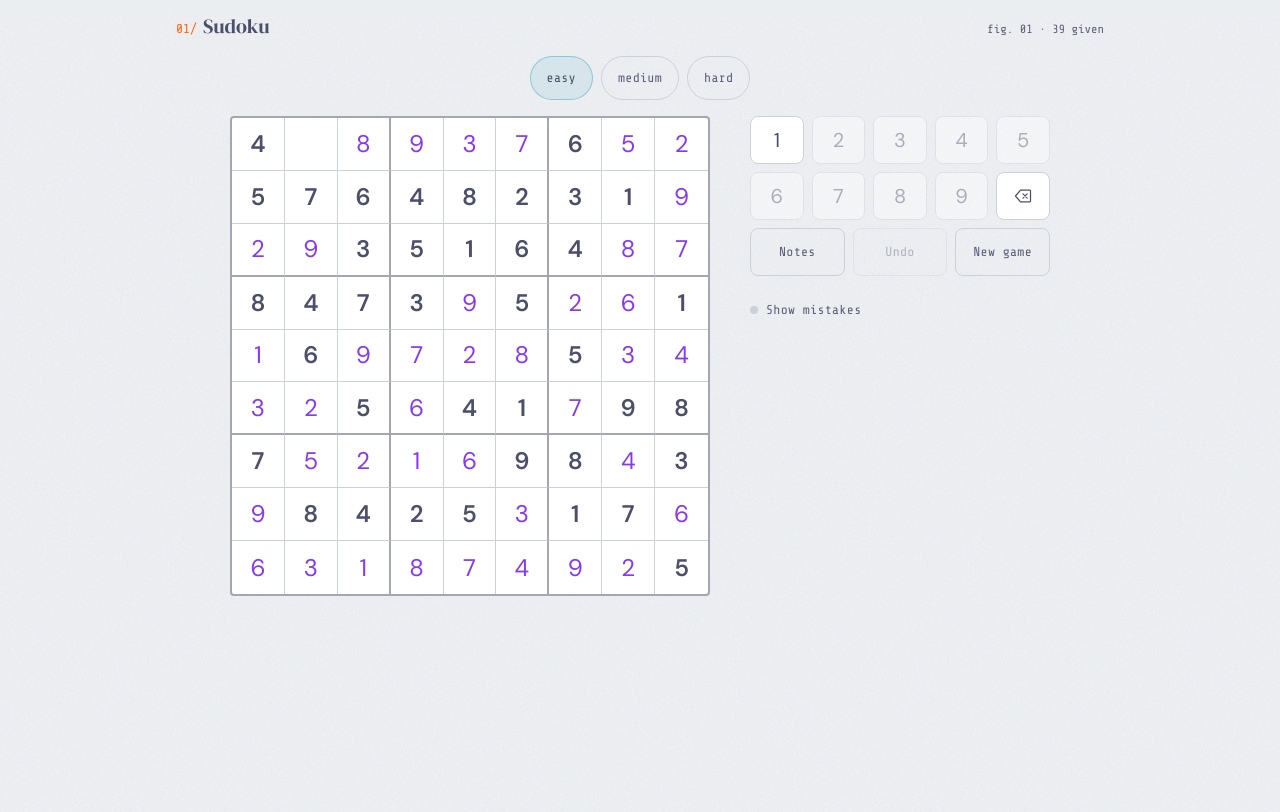
Test: persistence, timer, panels › a full-but-wrong board shows a gentle nudge, no locations revealed
This screenshot has width=1280, height=812.
Click the cell named "Row 1, column 2, empty" at (311, 144), box [285,118,338,171]
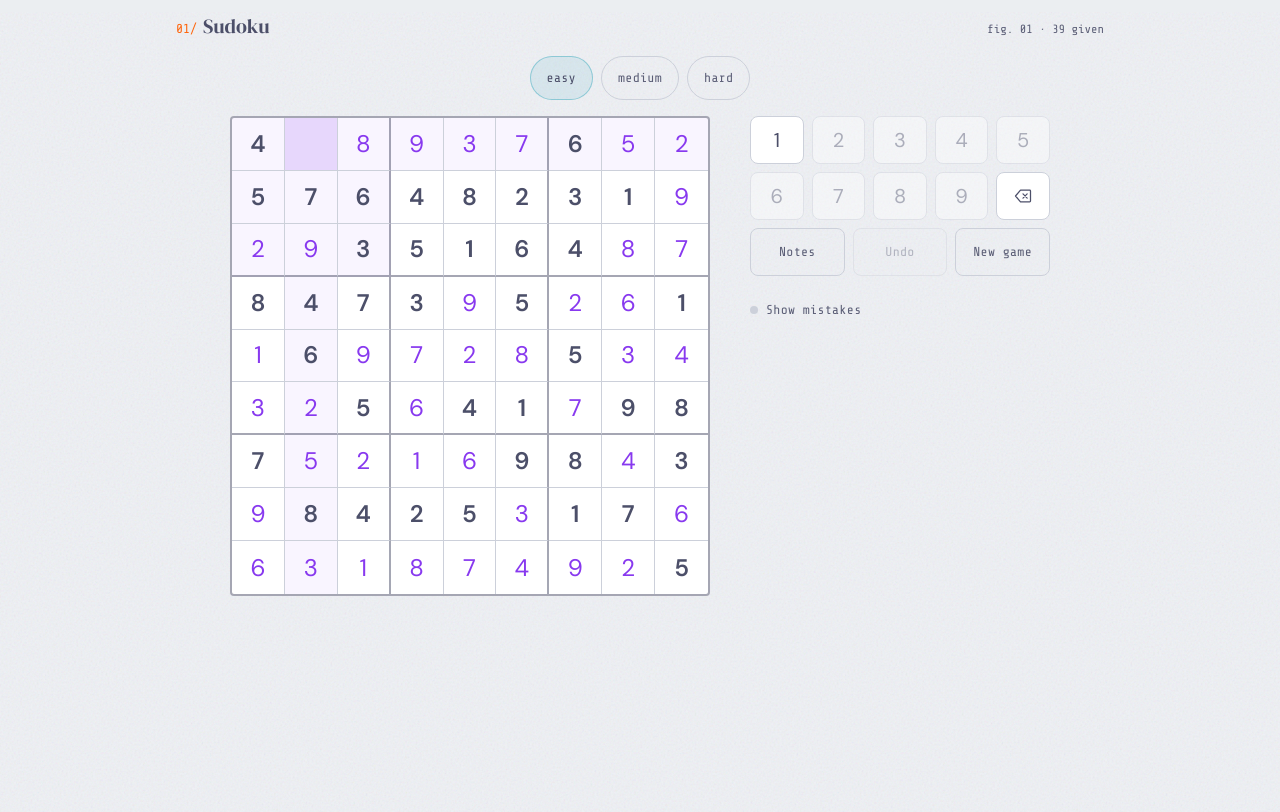
Press 2 in the table, box [230,116,710,596]
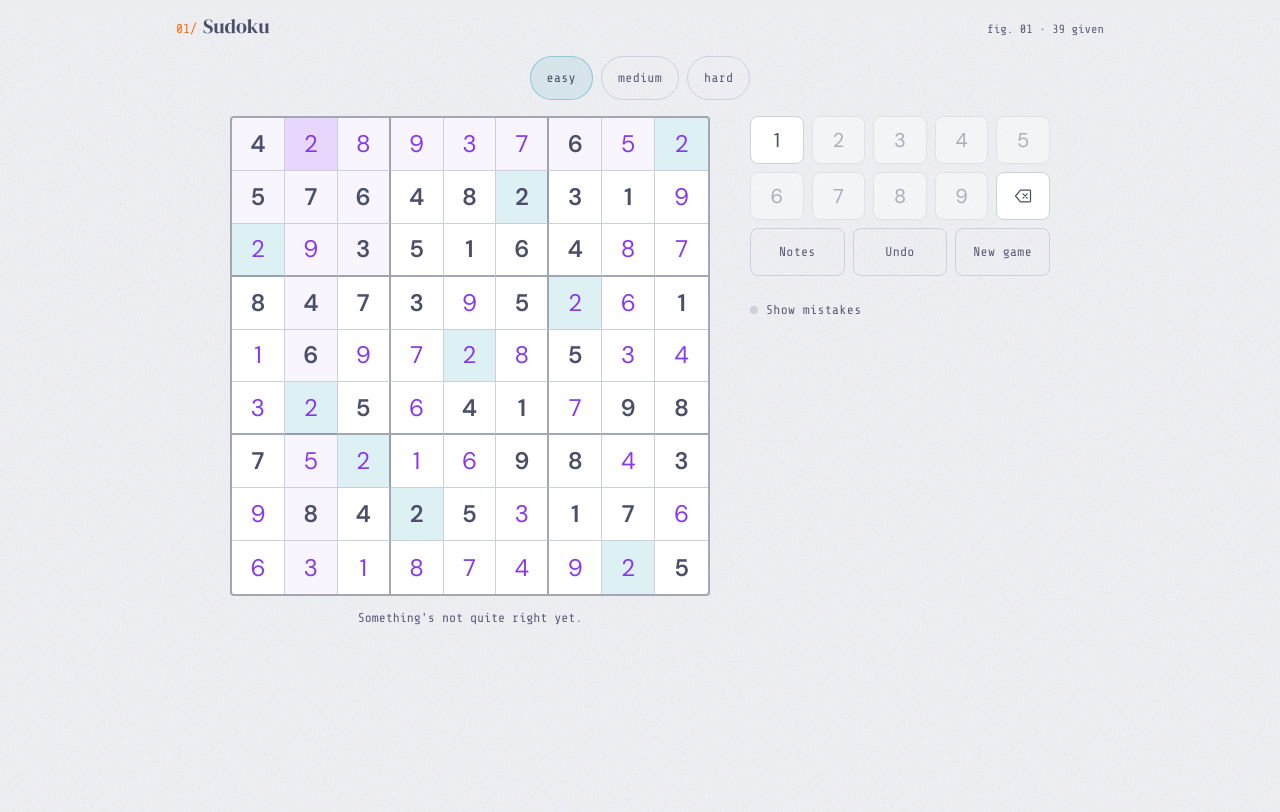
Expected: the text "Something's not quite right yet." is shown, [358,610,582,625]
